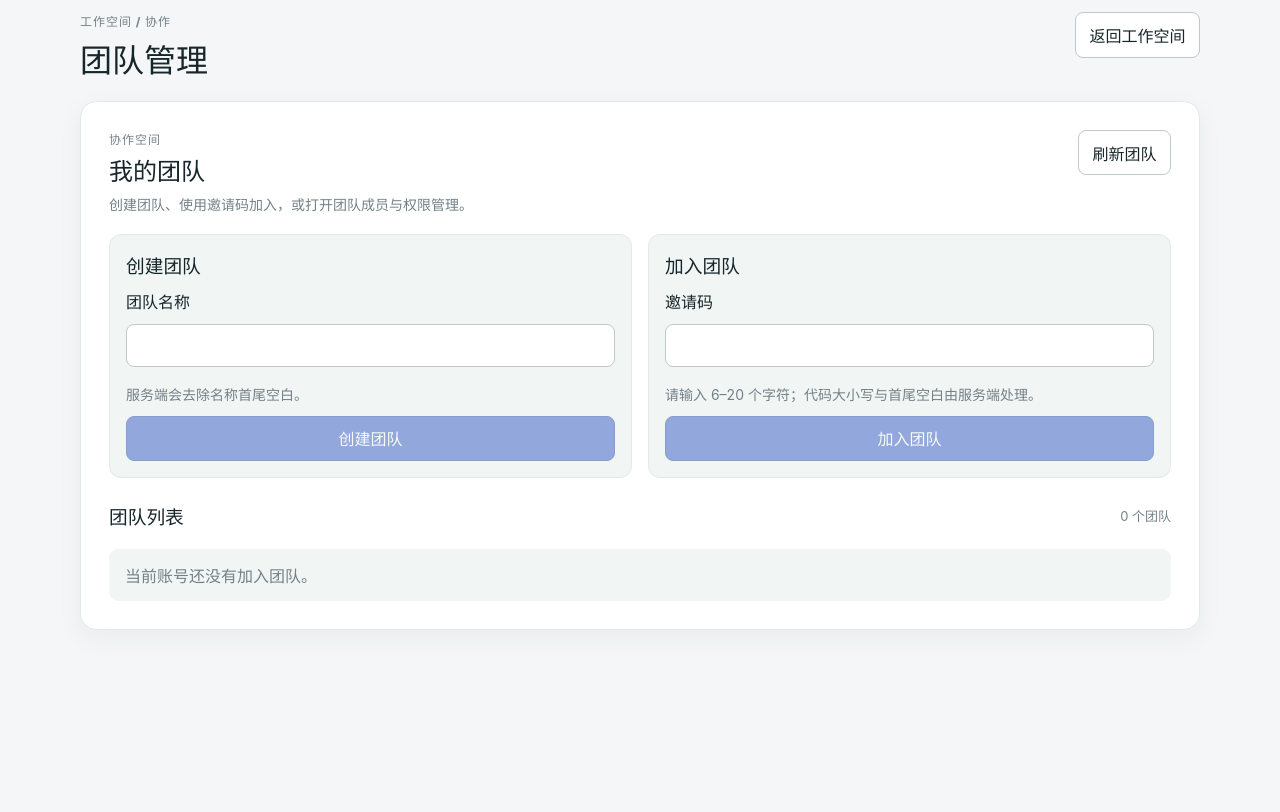
Test: TeamsPage › freezes an unknown write, permits only a read-only snapshot, and requires explicit abandon before new intent
Expected: the text "当前账号还没有加入团队。" is shown, [109, 549, 1171, 600]
Type "新团队" into the field labelled "团队名称" at (370, 345), box [126, 324, 615, 367]
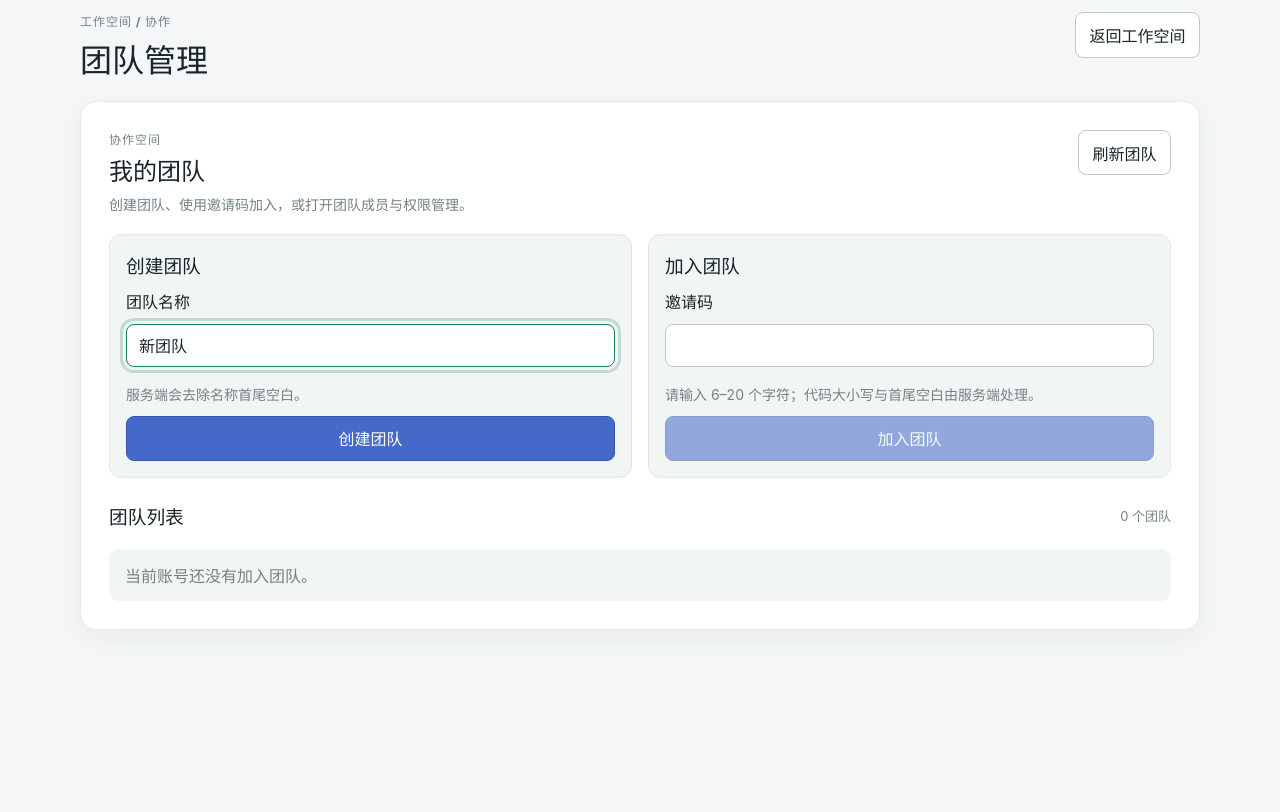
Click the button "创建团队" at (370, 438), box [126, 416, 615, 461]
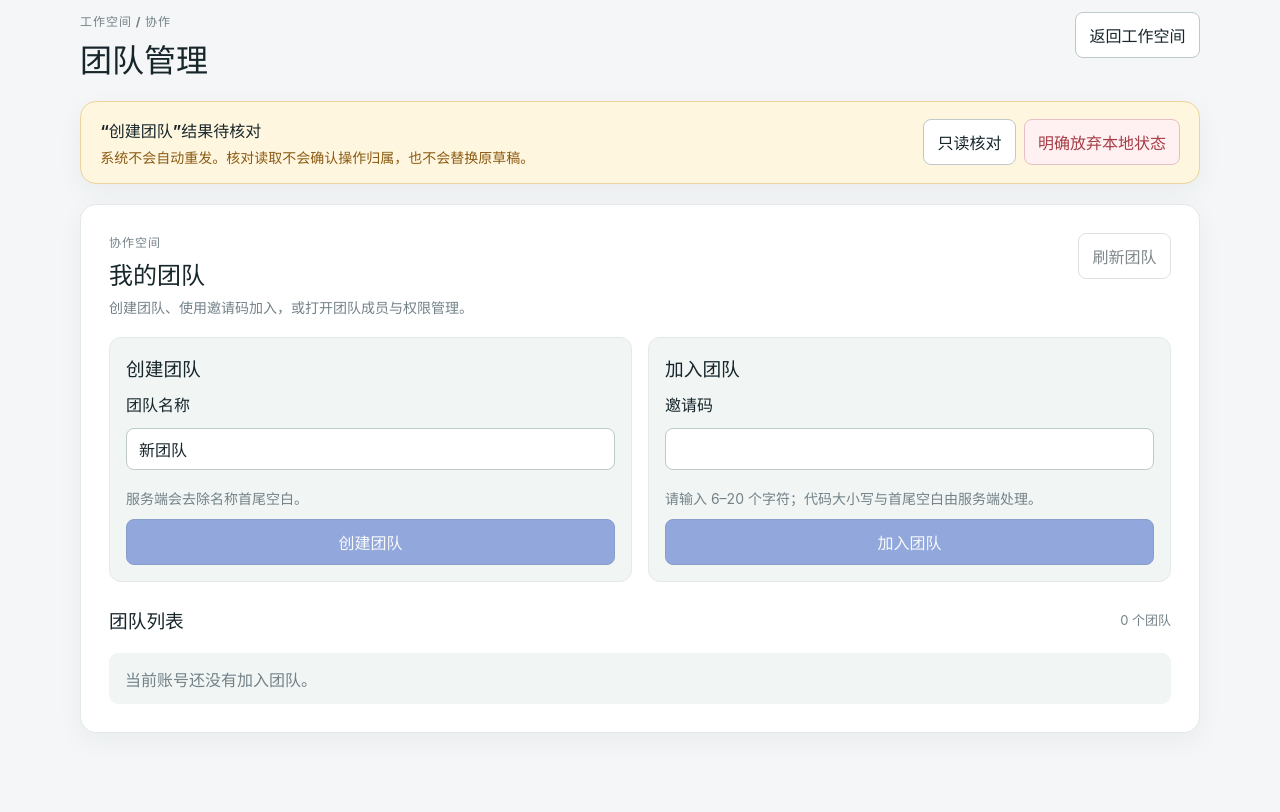
Now the element named "待核对的团队操作" is shown, box [80, 101, 1200, 184]
Now the button "创建团队" is disabled, box [126, 519, 615, 565]
Click the button "只读核对" at (970, 142), box [923, 120, 1016, 165]
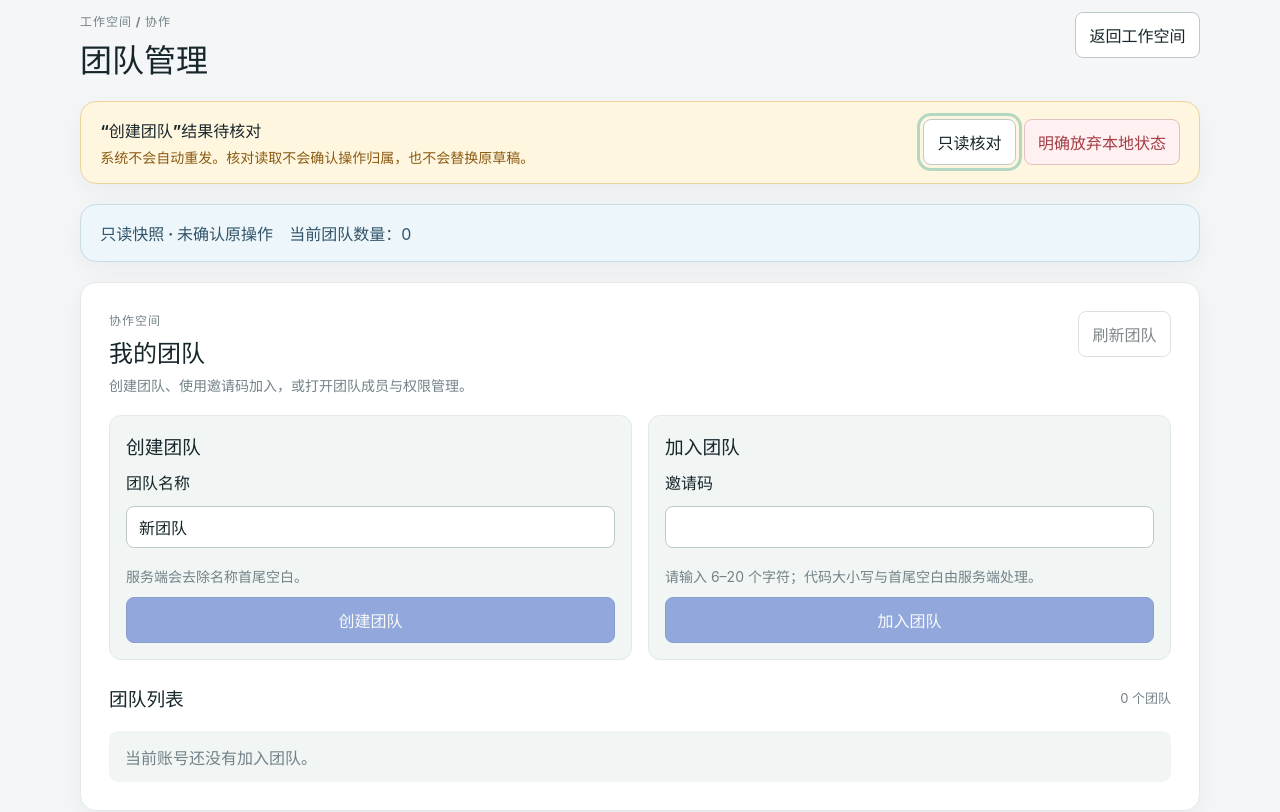
Now the message named "只读核对快照" shows "当前团队数量：0", box [80, 204, 1200, 262]
Click the button "明确放弃本地状态" at (1102, 142), box [1024, 120, 1180, 165]
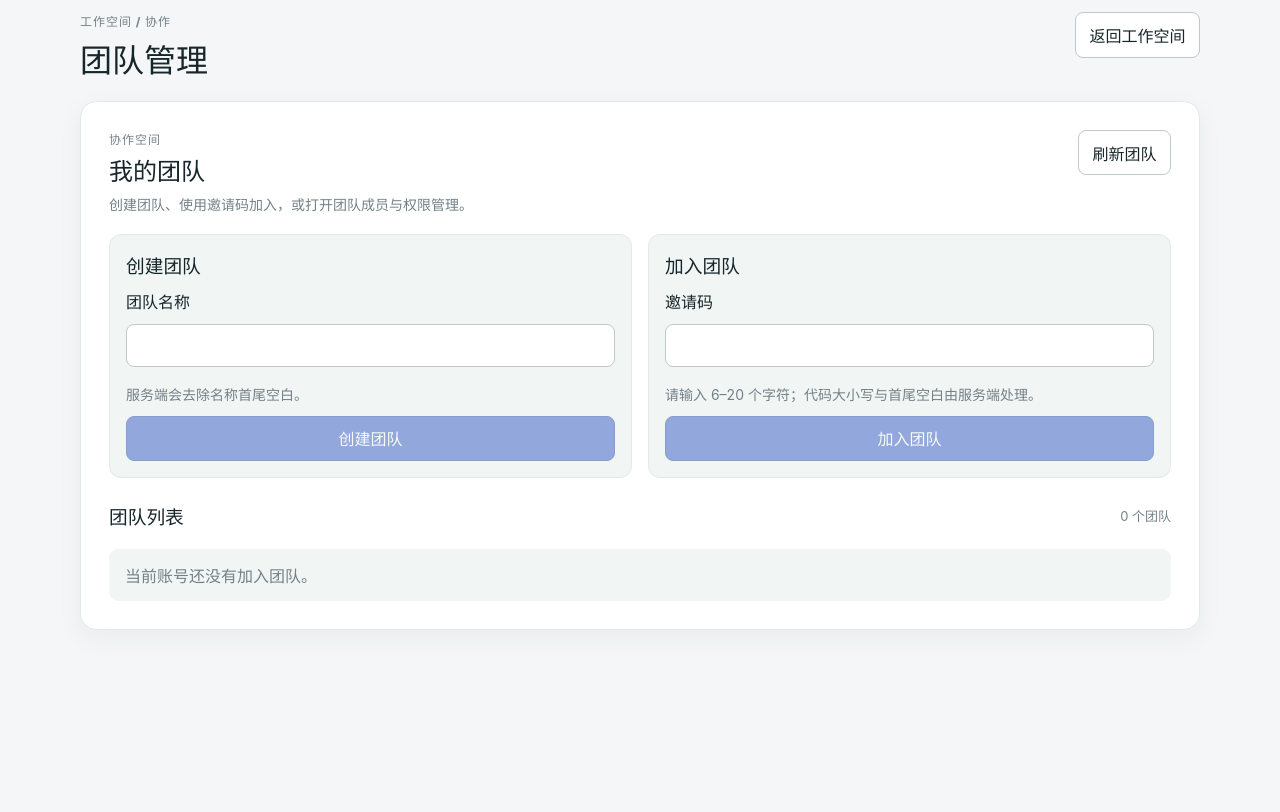
Now the element "待核对的团队操作" is gone
Now the field labelled "团队名称" is empty, box [126, 324, 615, 367]
